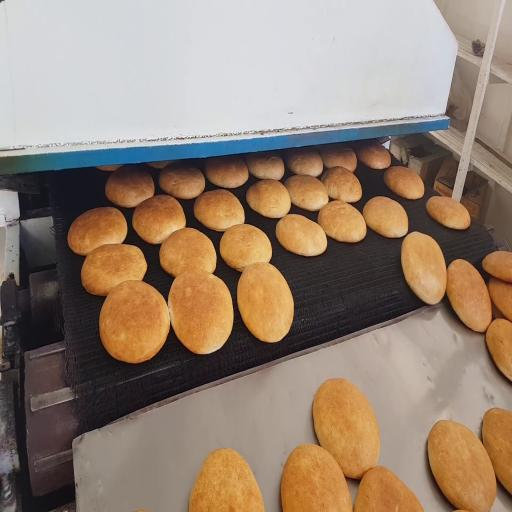bread: (313, 379, 379, 478), (428, 421, 496, 511), (100, 281, 169, 363), (168, 271, 233, 354), (281, 444, 352, 511), (189, 448, 264, 511), (237, 263, 294, 342), (81, 244, 147, 295), (401, 232, 446, 304), (446, 260, 491, 332), (354, 467, 423, 511), (68, 207, 127, 255), (160, 228, 216, 276), (132, 195, 185, 244), (482, 408, 511, 494), (220, 224, 271, 272), (276, 214, 327, 256), (194, 190, 244, 231), (105, 166, 154, 207), (318, 201, 366, 242), (363, 197, 408, 237), (246, 180, 290, 218), (159, 164, 205, 199), (486, 319, 511, 381), (285, 175, 328, 211), (427, 196, 470, 229), (322, 167, 362, 202), (205, 156, 248, 188), (384, 166, 424, 199), (246, 152, 284, 180), (319, 144, 357, 172), (286, 148, 323, 176), (489, 277, 511, 321), (357, 142, 391, 169), (483, 251, 511, 282), (147, 161, 174, 169), (97, 165, 122, 171)
